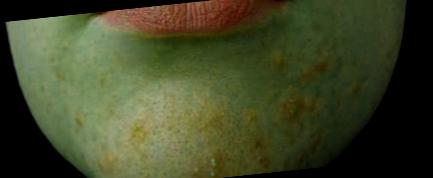Acne: (246, 130, 275, 174), (297, 47, 326, 78), (279, 88, 306, 121), (94, 150, 119, 175), (268, 46, 288, 72), (303, 128, 323, 150), (127, 120, 144, 142), (50, 66, 68, 84), (346, 78, 362, 98), (189, 167, 219, 177), (240, 110, 258, 124), (71, 112, 84, 126), (208, 156, 219, 168)
